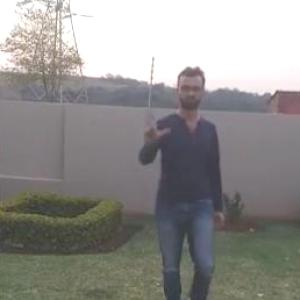land_hand: (142, 106, 175, 150)
